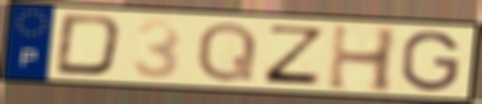3: (130, 16, 185, 81)
D: (51, 12, 126, 78)
G: (399, 29, 463, 94)
H: (324, 21, 401, 95)
Q: (193, 19, 260, 84)
Z: (260, 23, 328, 87)
